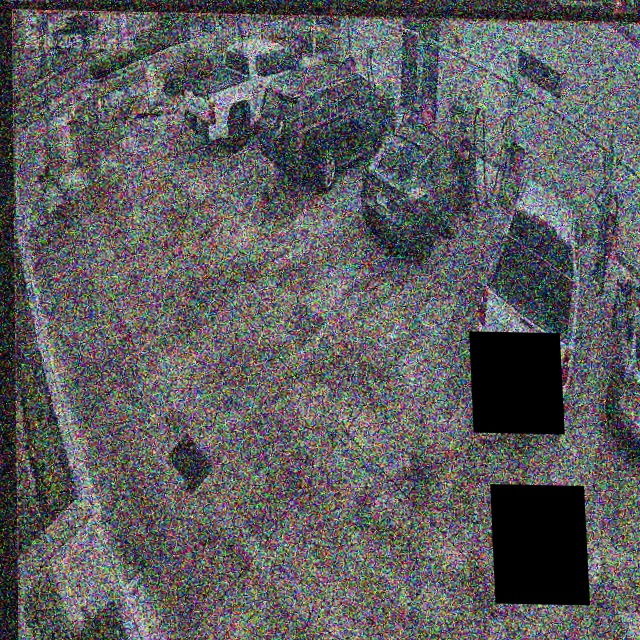Car: (469, 179, 595, 419), (256, 62, 398, 181), (358, 115, 476, 256)
